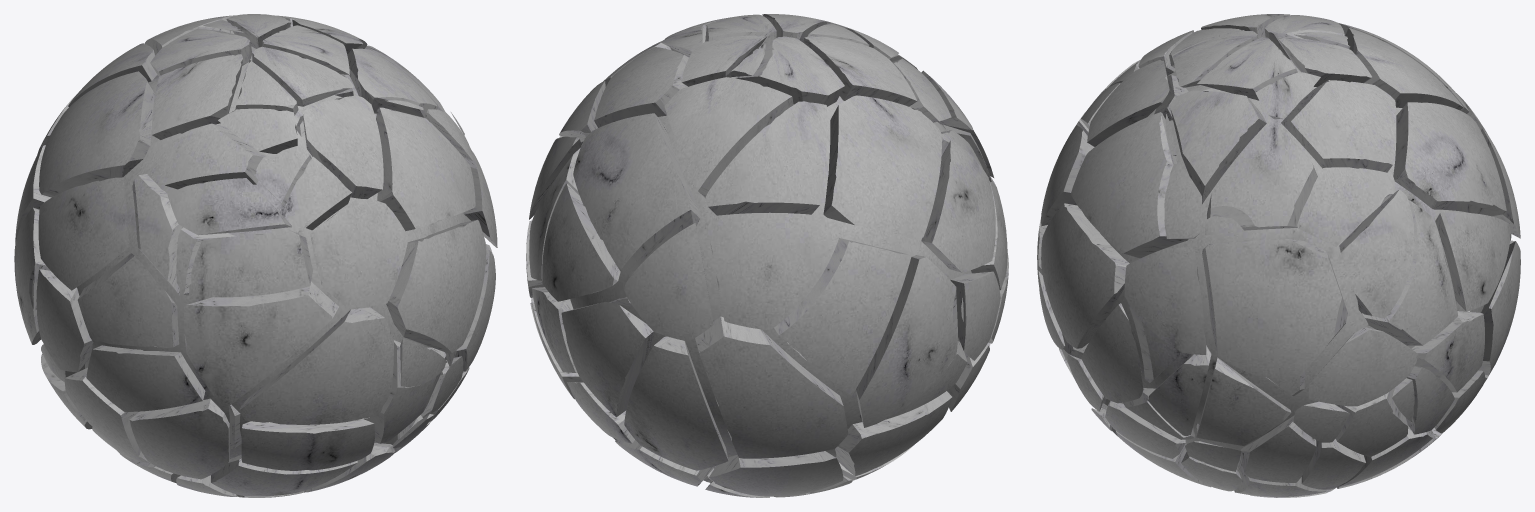
Rendered from snow_02_2k-transformed.glb.
The picture shows the model from 3 angles, left to right: view 1: azimuth 30°, elevation 25°; view 2: azimuth 150°, elevation 25°; view 3: azimuth 270°, elevation 25°; orthographic projection.
Visible parts, largest first — view 1: Sphere_cell.266, Sphere_cell.313, Sphere_cell.273, Sphere_cell.245, Sphere_cell.320, Sphere, Sphere_cell.038, Sphere_cell.271, Sphere_cell.124, Sphere_cell.127, Sphere_cell.349, Sphere_cell.293 (+33 smaller); view 2: Sphere_cell.273, Sphere_cell.335, Sphere_cell.186, Sphere_cell.341, Sphere_cell.270, Sphere_cell.348, Sphere_cell.137, Sphere_cell.327, Sphere, Sphere_cell.165, Sphere_cell.258, Sphere_cell.231 (+26 smaller); view 3: Sphere_cell.035, Sphere_cell.320, Sphere, Sphere_cell.186, Sphere_cell.245, Sphere_cell.188, Sphere_cell.306, Sphere_cell.359, Sphere_cell.309, Sphere_cell.206, Sphere_cell.299, Sphere_cell.291 (+40 smaller).
Part boxes in pixels (x1,y1,x2,y2): Sphere_cell.266: [239, 307, 393, 424]; Sphere_cell.313: [184, 281, 338, 405]; Sphere_cell.273: [39, 71, 155, 197]; Sphere_cell.245: [386, 219, 486, 353]; Sphere_cell.320: [376, 107, 475, 231]; Sphere: [77, 46, 469, 459]; Sphere_cell.038: [310, 198, 408, 307]; Sphere_cell.271: [38, 177, 129, 290]; Sphere_cell.124: [189, 230, 312, 297]; Sphere_cell.127: [77, 253, 179, 347]; Sphere_cell.349: [303, 95, 383, 198]; Sphere_cell.293: [129, 398, 229, 479]; Sphere_cell.273: [823, 95, 941, 239]; Sphere_cell.335: [695, 316, 848, 458]; Sphere_cell.186: [573, 113, 699, 272]; Sphere_cell.341: [774, 238, 911, 395]; Sphere_cell.270: [706, 214, 839, 330]; Sphere_cell.348: [856, 255, 957, 427]; Sphere_cell.137: [705, 101, 827, 215]; Sphere_cell.327: [624, 336, 728, 470]; Sphere: [570, 55, 971, 467]; Sphere_cell.165: [664, 77, 793, 198]; Sphere_cell.258: [561, 302, 654, 417]; Sphere_cell.231: [624, 223, 713, 341]; Sphere_cell.035: [1202, 239, 1347, 377]; Sphere_cell.320: [1071, 112, 1188, 258]; Sphere: [1074, 59, 1494, 450]; Sphere_cell.186: [1393, 102, 1506, 216]; Sphere_cell.245: [1041, 203, 1129, 348]; Sphere_cell.188: [1281, 80, 1396, 172]; Sphere_cell.306: [1207, 126, 1317, 230]; Sphere_cell.359: [1124, 247, 1206, 354]; Sphere_cell.309: [1169, 90, 1266, 204]; Sphere_cell.206: [1339, 189, 1414, 318]; Sphere_cell.299: [1357, 194, 1457, 345]; Sphere_cell.291: [1308, 327, 1418, 406].
Bounding box in the file's own units: 1.11 × 1.11 × 1.11.
1 material, 1 textured.
